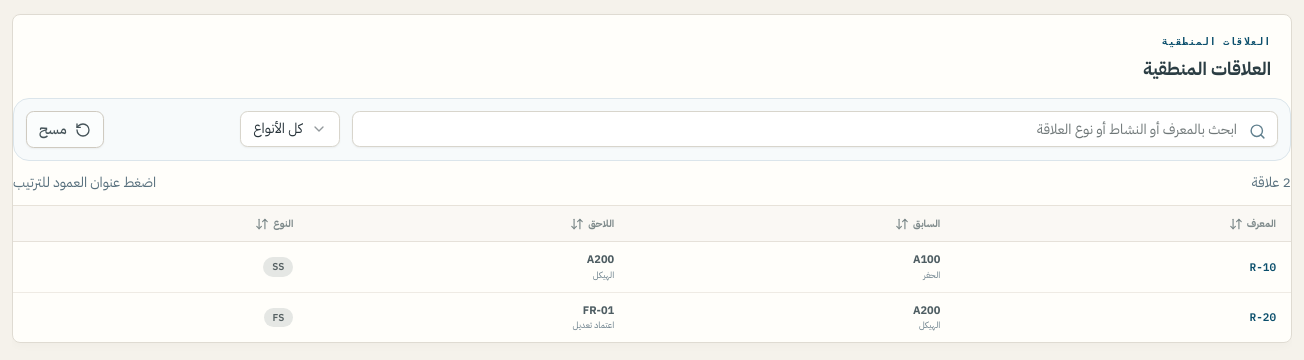
Scenario: جدول العلاقات المنطقية القابل للفلترة والترتيب › يبحث في النشاط ويرتب العلاقة حسب السابق
The image size is (1304, 360).
Later steps or results of the test are not shown.
Step 1. Type "الحفر" into the field named "ابحث في العلاقات" → [815, 129], box [352,111,1278,147]
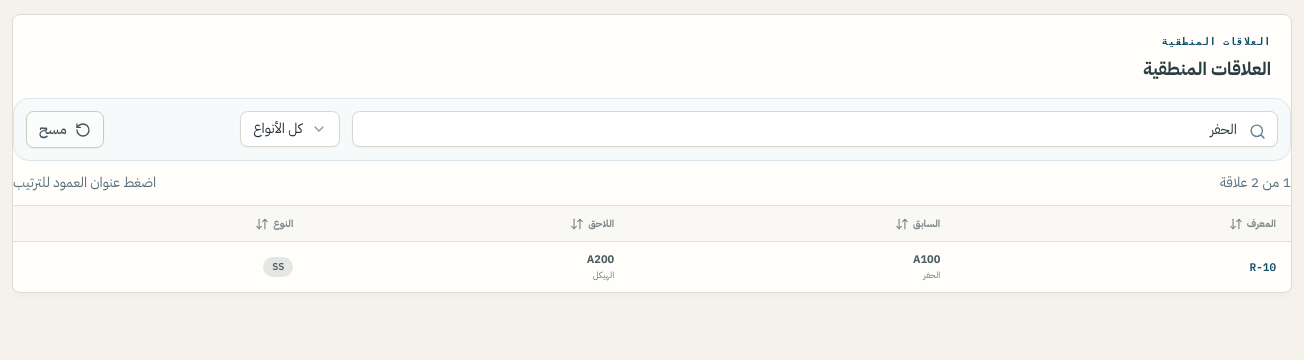
Check: the text "R-10" is shown, box [1250,260,1276,274]
Check: the message reads "1 من 2 علاقة", box [1220,172,1291,193]
